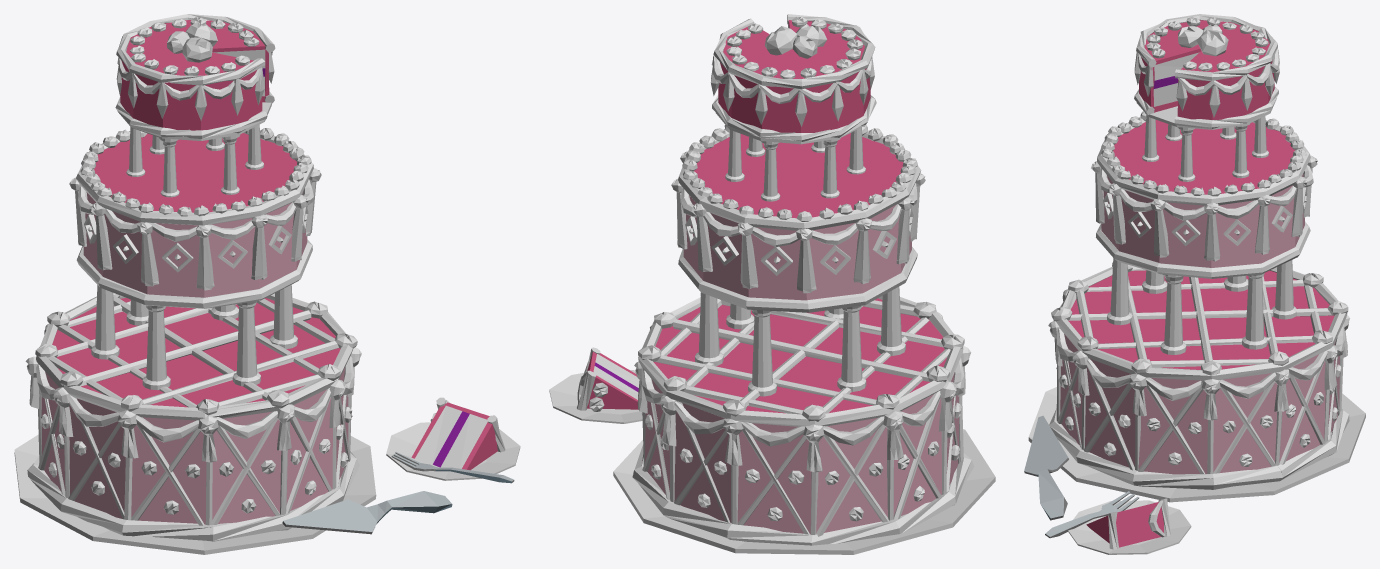
The model's file is Wedding Cake.glb.
3 views of the same model, side by side, from view 1: azimuth 30°, elevation 25°; view 2: azimuth 150°, elevation 25°; view 3: azimuth 270°, elevation 25° (orthographic). The views are drawn at different scales.
Parts seen in each view (by area): view 1: node_MeshObject-916008960-PolyPaper6_1, node_MeshObject-343929856-PolyPaper21_0, node_MeshObject228149248-PolyPaper21_2; view 2: node_MeshObject-916008960-PolyPaper6_1, node_MeshObject-343929856-PolyPaper21_0, node_MeshObject228149248-PolyPaper21_2; view 3: node_MeshObject-916008960-PolyPaper6_1, node_MeshObject-343929856-PolyPaper21_0, node_MeshObject228149248-PolyPaper21_2.
Part boxes in pixels (x1,y1,x2,y2): node_MeshObject-916008960-PolyPaper6_1: (14,20,376,554); node_MeshObject-343929856-PolyPaper21_0: (27,14,520,541); node_MeshObject228149248-PolyPaper21_2: (116,52,514,534); node_MeshObject-916008960-PolyPaper6_1: (613,20,995,554); node_MeshObject-343929856-PolyPaper21_0: (549,14,974,545); node_MeshObject228149248-PolyPaper21_2: (710,24,843,126); node_MeshObject-916008960-PolyPaper6_1: (1028,20,1365,502); node_MeshObject-343929856-PolyPaper21_0: (1049,14,1349,554); node_MeshObject228149248-PolyPaper21_2: (1024,65,1279,538).
Bounding box in the file's own units: 1.96 × 1.96 × 1.46.
